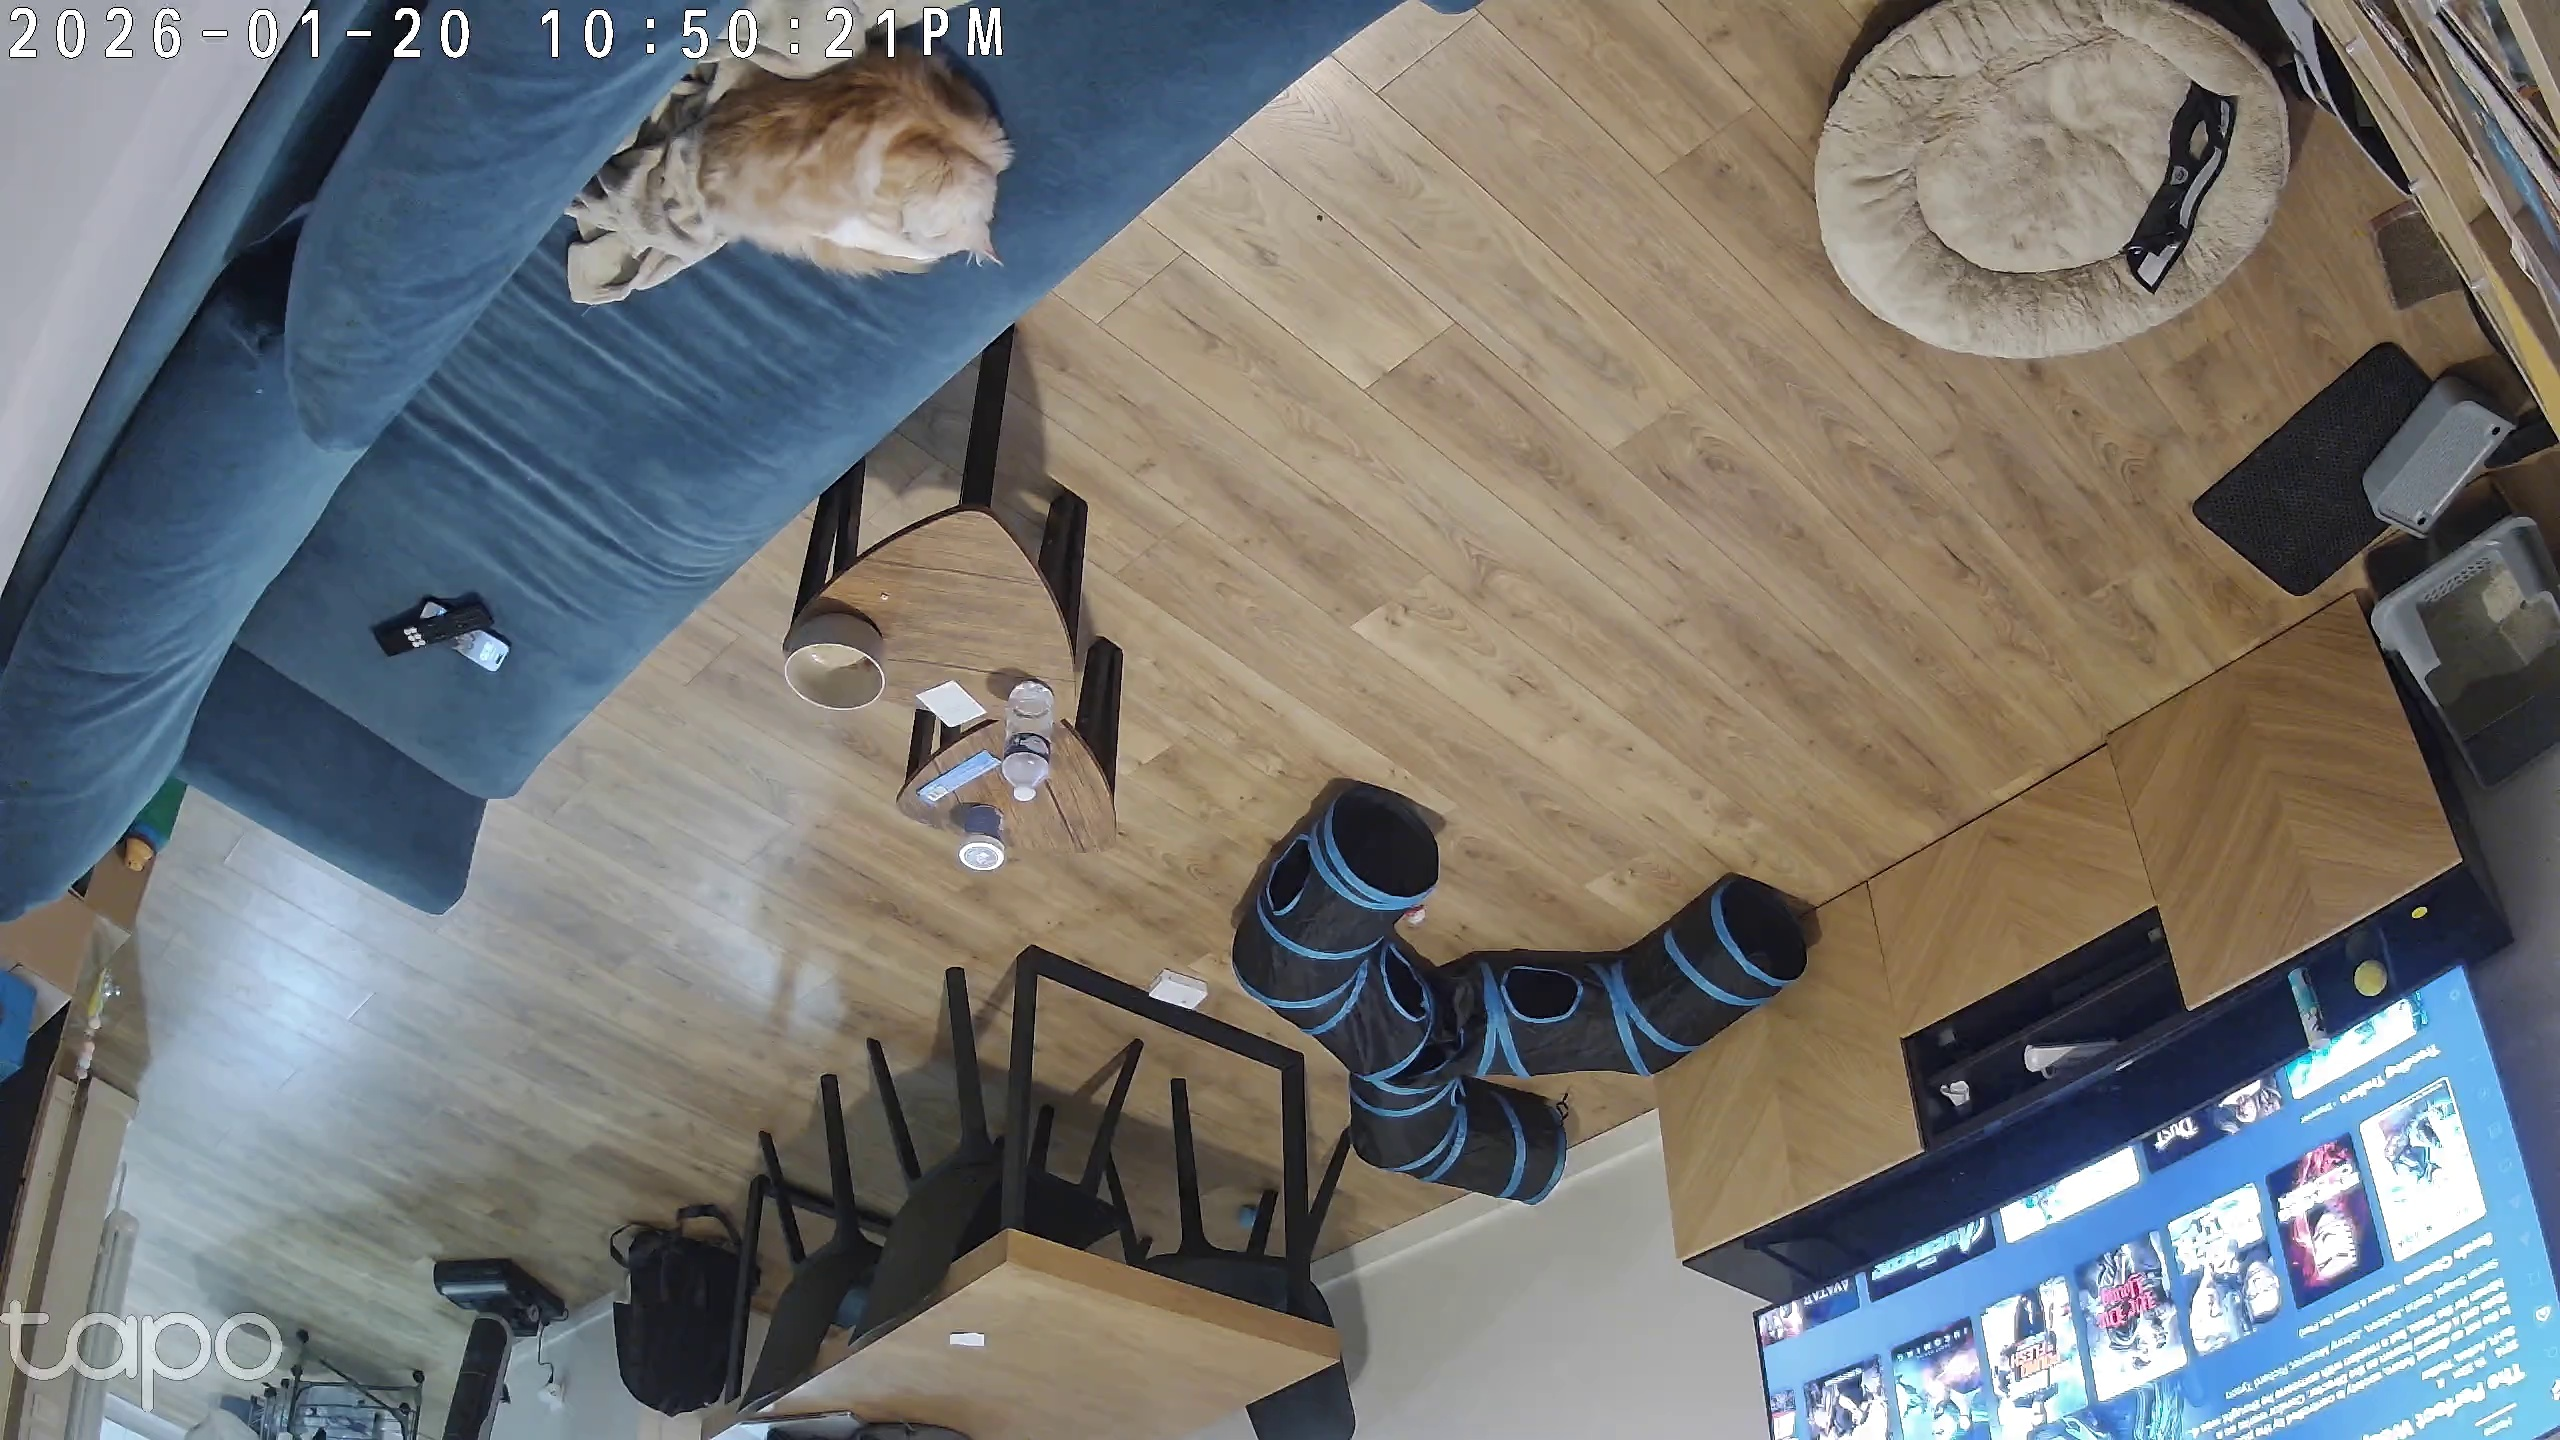Simba: (670, 23, 1058, 297)
